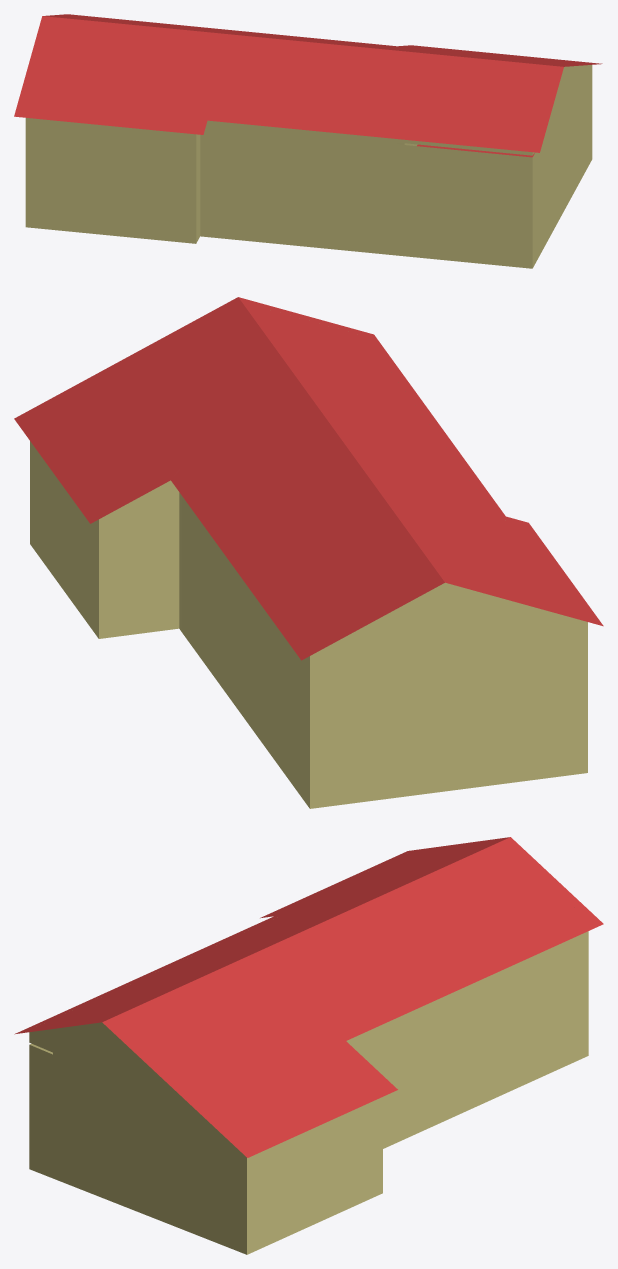
The picture shows the model from 3 angles, top to bottom: view 1: azimuth 30°, elevation 25°; view 2: azimuth 150°, elevation 25°; view 3: azimuth 270°, elevation 25°; orthographic projection. The views are drawn at different scales.
Size of the model in its own units: 30.77 by 27.09 by 9.21.
